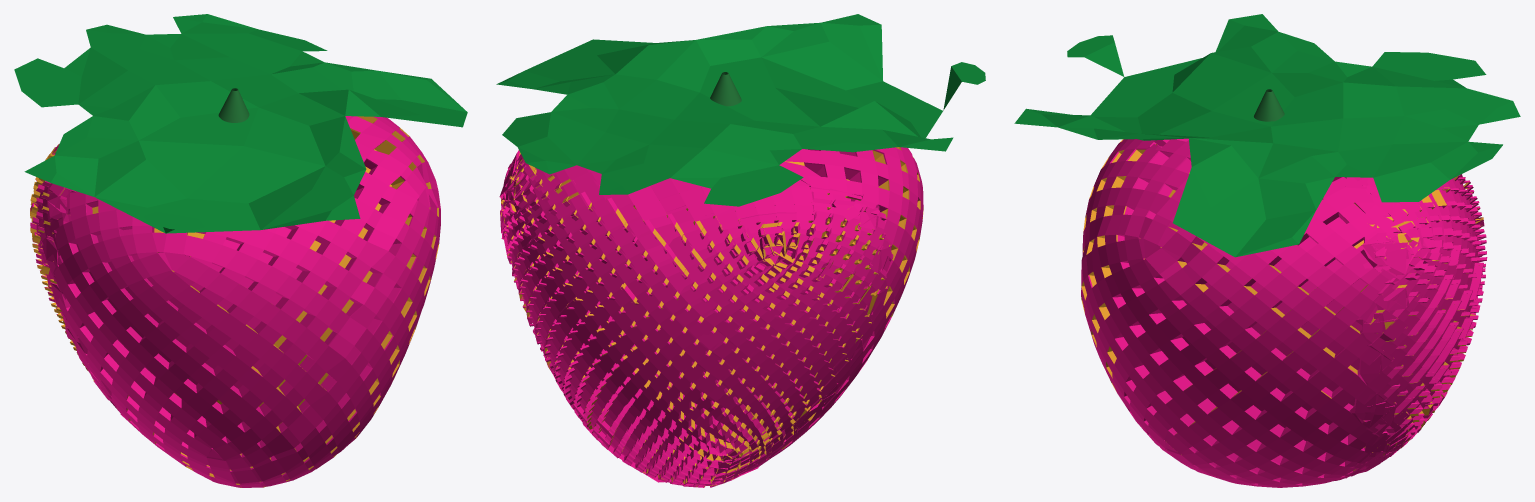
The model's file is strawberry.glb.
The picture shows the model from 3 angles, left to right: view 1: azimuth 30°, elevation 25°; view 2: azimuth 150°, elevation 25°; view 3: azimuth 270°, elevation 25°; orthographic projection.
Visible parts, largest first — view 1: Cube, Plane, SurfCylinder; view 2: Cube, Plane, SurfCylinder; view 3: Cube, Plane, SurfCylinder.
Part boxes in pixels (left/top/right/bottom): Cube: left=30, top=116, right=440, bottom=487; Plane: left=14, top=14, right=467, bottom=233; SurfCylinder: left=218, top=88, right=249, bottom=122; Cube: left=499, top=147, right=923, bottom=487; Plane: left=496, top=14, right=985, bottom=206; SurfCylinder: left=710, top=72, right=741, bottom=106; Cube: left=1081, top=138, right=1487, bottom=487; Plane: left=1014, top=14, right=1520, bottom=257; SurfCylinder: left=1254, top=89, right=1284, bottom=121.
Size of the model in its own units: 1.7 by 1.46 by 1.74.
